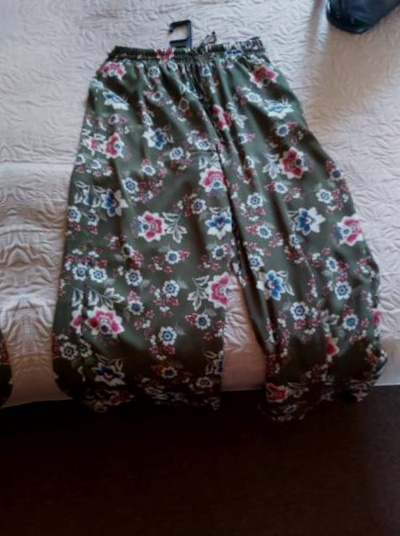Pants: (26, 9, 400, 464), (0, 59, 10, 513)
